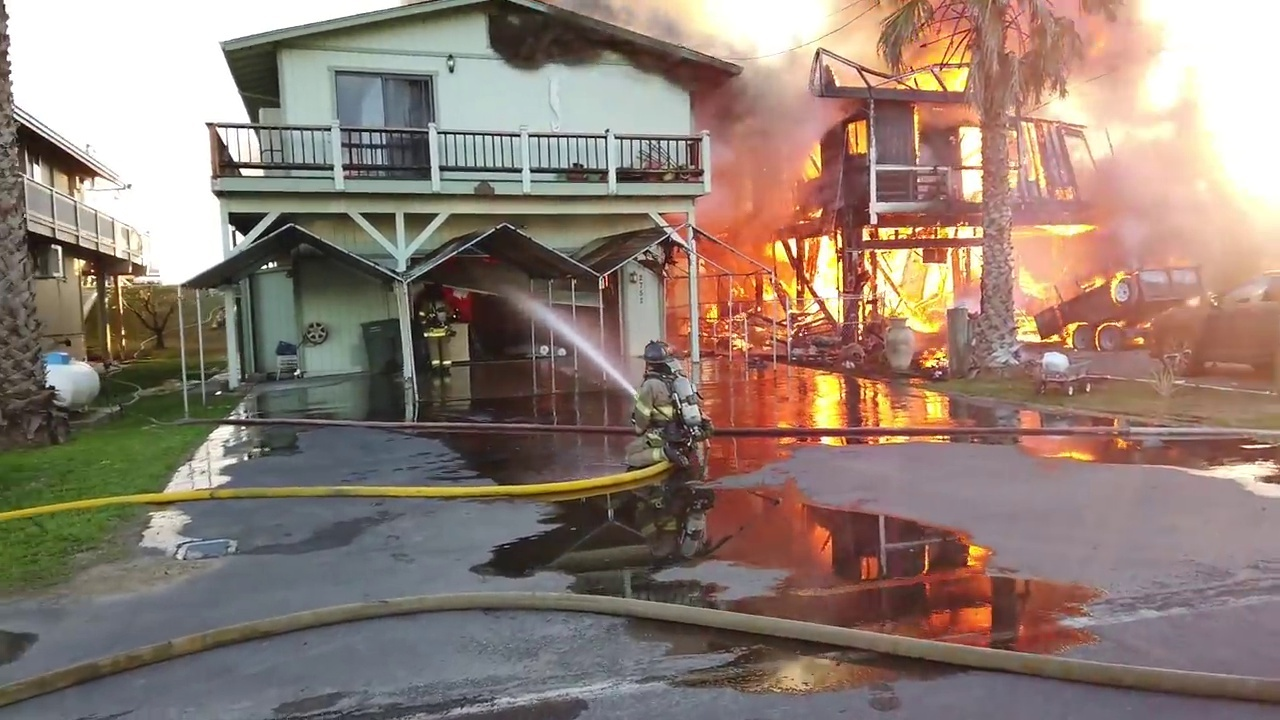fire: (689, 218, 989, 307), (695, 1, 835, 43), (1012, 223, 1098, 260), (1060, 320, 1138, 356), (954, 123, 985, 200), (1014, 259, 1055, 305), (729, 320, 769, 358), (917, 347, 951, 383), (902, 310, 949, 334), (852, 305, 868, 340), (706, 307, 723, 324)
smoke: (1100, 84, 1280, 320), (684, 52, 830, 254)
